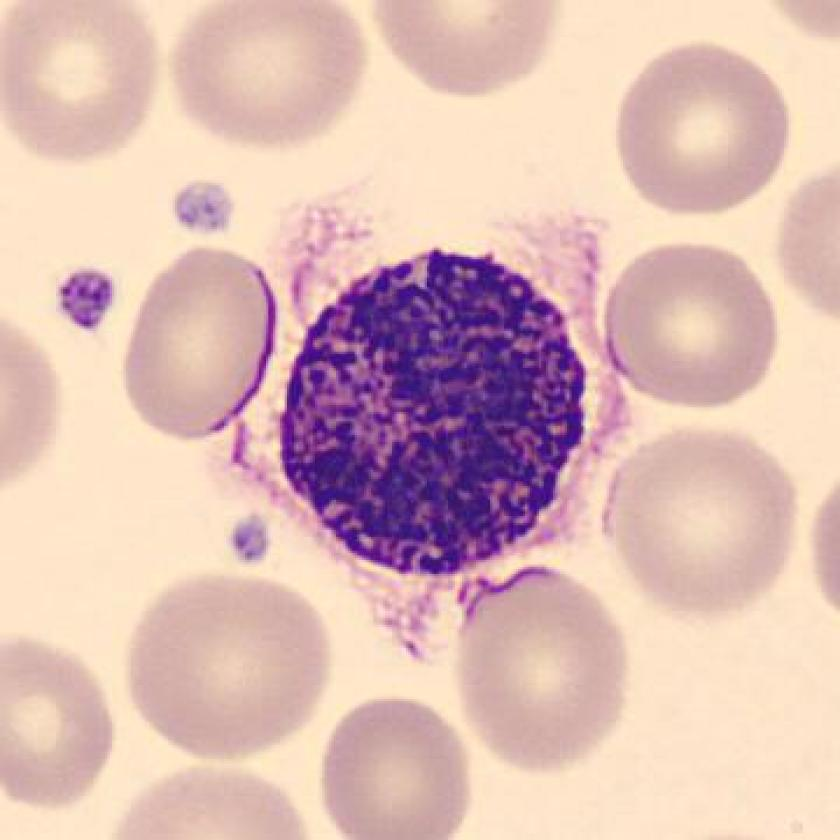basophil: (269, 244, 582, 573)
